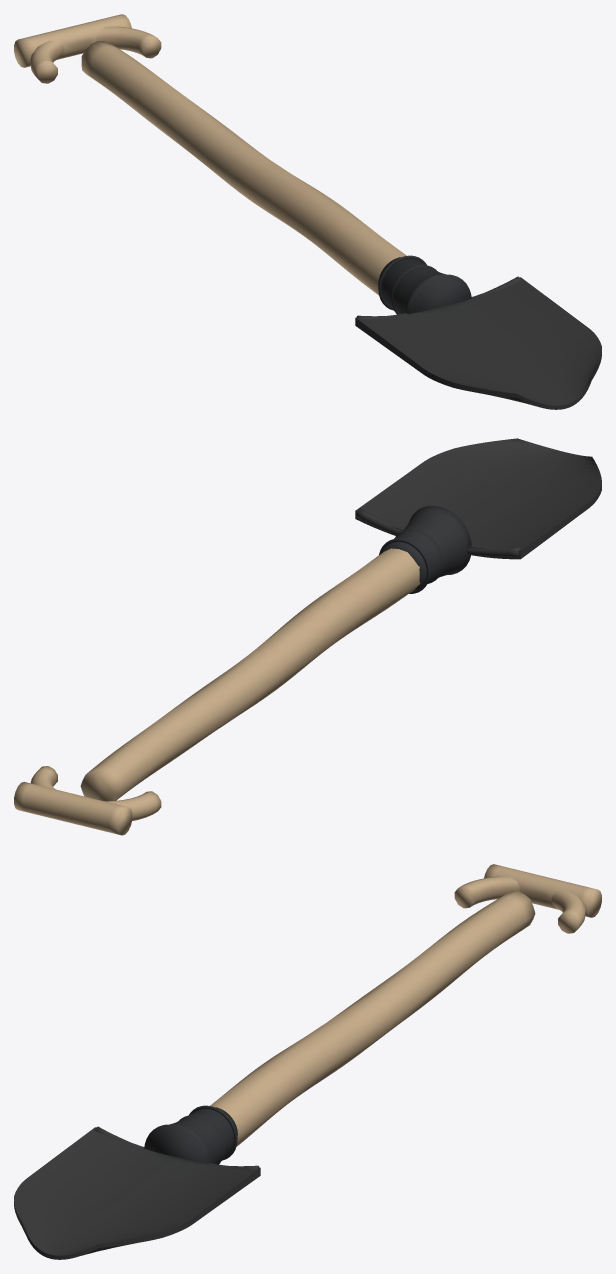
File: tool_shovel.glb
3 renders of one model, top to bottom at view 1: azimuth 30°, elevation 25°; view 2: azimuth 150°, elevation 25°; view 3: azimuth 330°, elevation 25°, orthographic.
Parts seen in each view (by area): view 1: shovel-body; view 2: shovel-body; view 3: shovel-body.
Part boxes in pixels (left/top/right/bottom): shovel-body: left=14, top=14, right=601, bottom=409; shovel-body: left=14, top=438, right=601, bottom=835; shovel-body: left=14, top=864, right=601, bottom=1259.
Size of what is drawn, in the model's own units: 0.184 by 0.072 by 0.9616.
1 material, 1 textured.
